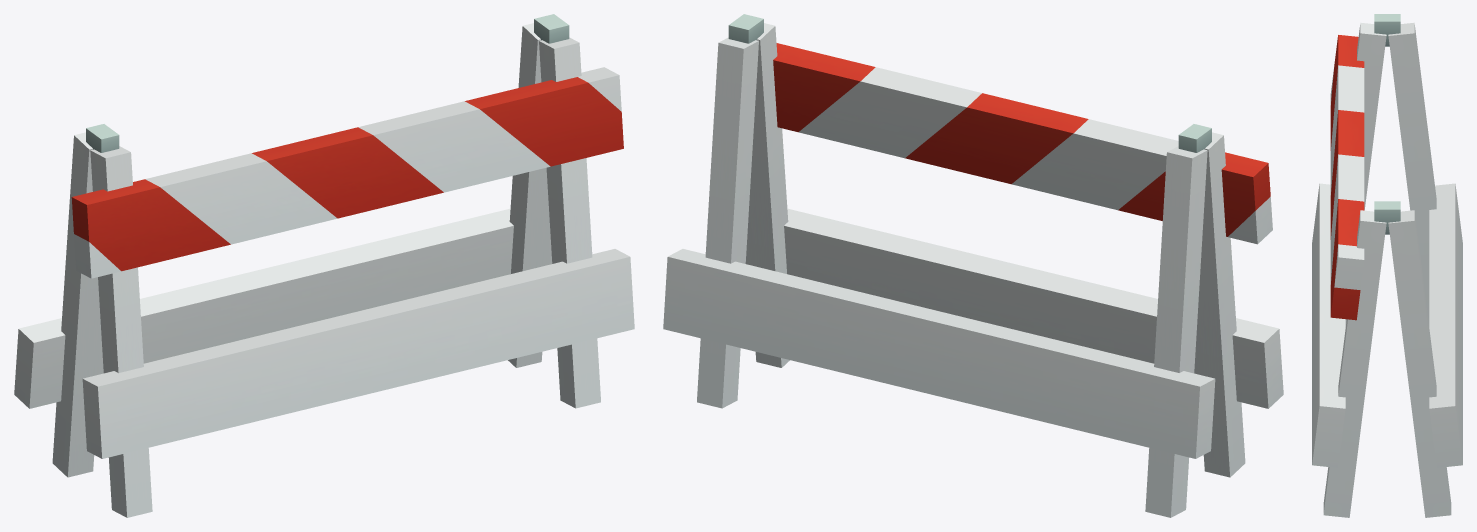
File: barrier_wood.fbx
The picture shows the model from 3 angles, left to right: view 1: azimuth 30°, elevation 25°; view 2: azimuth 150°, elevation 25°; view 3: azimuth 270°, elevation 25°; orthographic projection. The views are drawn at different scales.
Parts seen in each view (by area): view 1: barrier_wood; view 2: barrier_wood; view 3: barrier_wood.
Boxes of the visible parts, bbox=[...] form: barrier_wood: bbox=[14, 14, 634, 517]; barrier_wood: bbox=[663, 14, 1283, 517]; barrier_wood: bbox=[1312, 14, 1462, 517].
Size of the model in its own units: 200 by 129 by 57.26.
